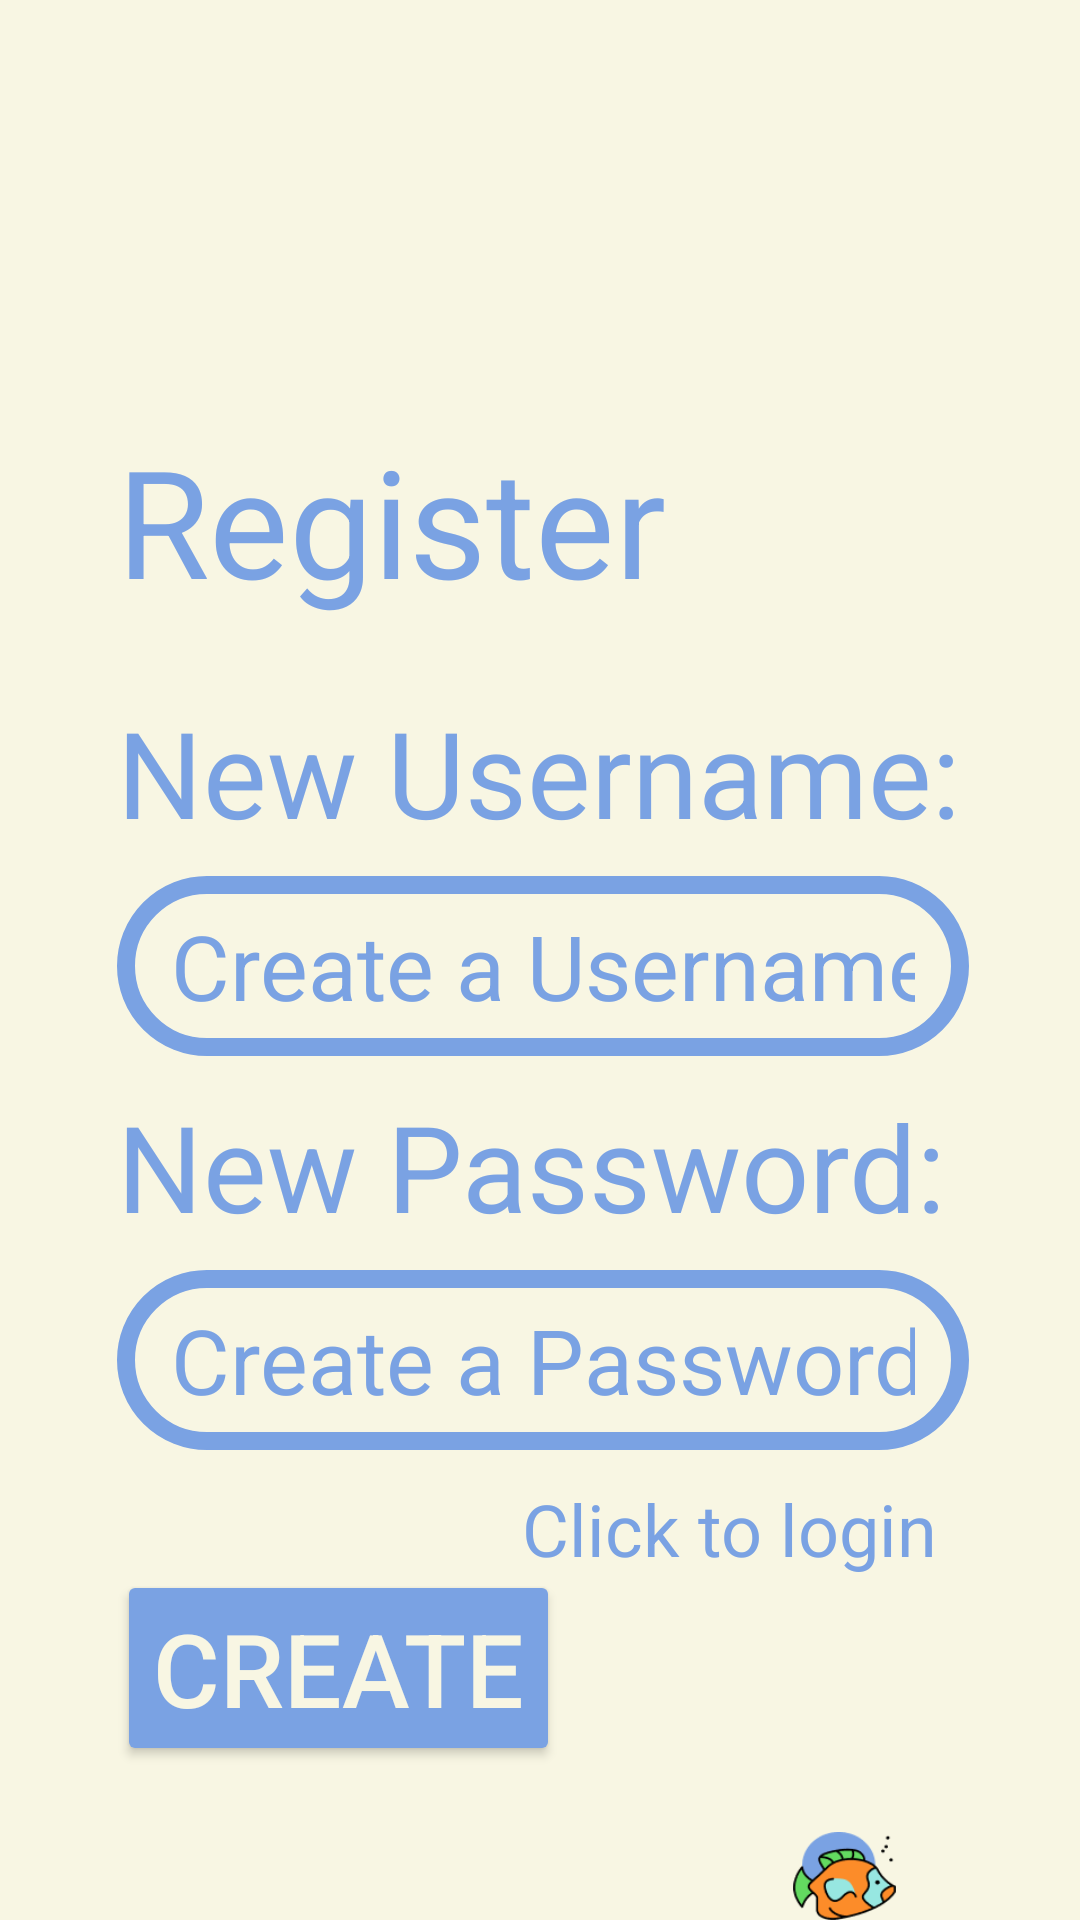

Where to tap for icons on this 1080 x 1920 app screen, as (x=x, y=y):
fish: (x=844, y=1876)
